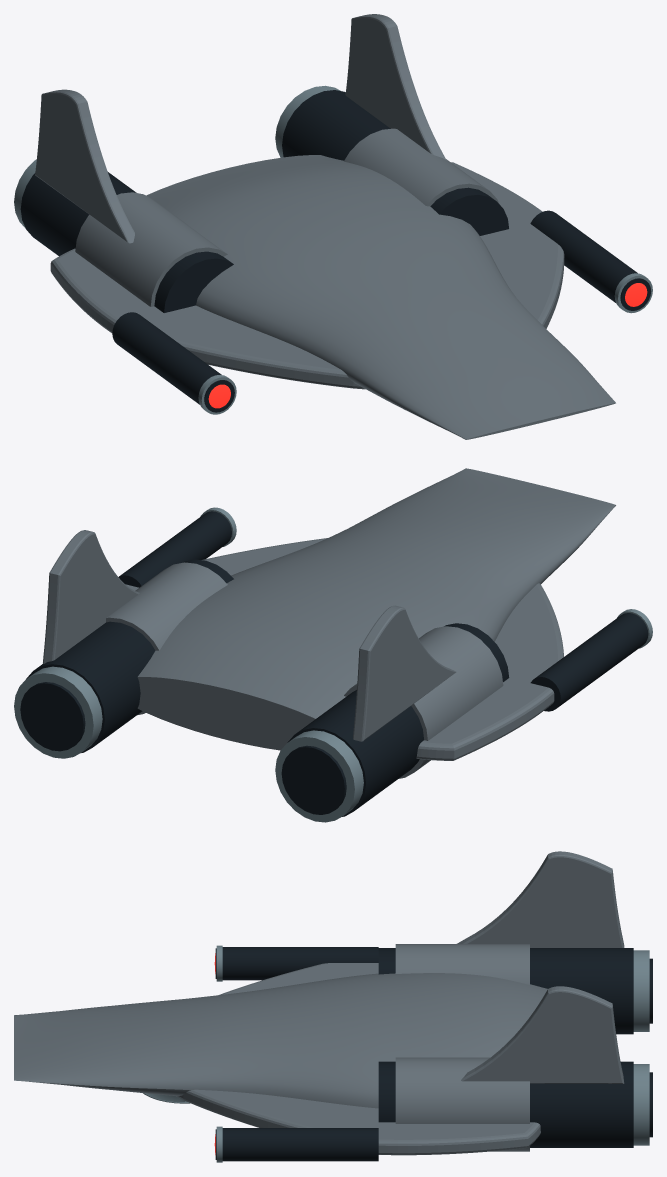
File: drone-v1.glb
3 renders of one model, top to bottom at view 1: azimuth 30°, elevation 25°; view 2: azimuth 150°, elevation 25°; view 3: azimuth 270°, elevation 25°, orthographic. The views are drawn at different scales.
Parts seen in each view (by area): view 1: curved_pointed_hull, curved_wing_-1, engine_cowling_-1, tail_fin_-1, engine_core_1, tail_fin_1, curved_wing_1, engine_core_-1, engine_cowling_1, beam_emitter_body_-1, beam_emitter_body_1, exhaust_collar_1; view 2: curved_pointed_hull, curved_wing_-1, hull_rear_cap, tail_fin_-1, tail_fin_1, engine_core_1, engine_core_-1, engine_cowling_-1, engine_cowling_1, beam_emitter_body_-1, exhaust_aperture_1, exhaust_aperture_-1 (+4 smaller); view 3: curved_pointed_hull, tail_fin_1, curved_wing_1, tail_fin_-1, engine_core_1, engine_cowling_1, engine_core_-1, beam_emitter_body_1, engine_cowling_-1, beam_emitter_body_-1, curved_wing_-1, exhaust_collar_-1 (+1 smaller).
Boxes of the visible parts, x1,y1,x2,y2 form: curved_pointed_hull: (146,155,615,439); curved_wing_-1: (50,248,365,389); engine_cowling_-1: (75,192,227,306); tail_fin_-1: (35,89,134,243); engine_core_1: (282,90,508,235); tail_fin_1: (345,14,446,160); curved_wing_1: (451,162,564,328); engine_core_-1: (20,172,233,312); engine_cowling_1: (344,128,499,206); beam_emitter_body_-1: (112,312,221,404); beam_emitter_body_1: (530,210,637,302); exhaust_collar_1: (275,85,340,157); curved_pointed_hull: (138,468,615,718); curved_wing_-1: (416,583,563,760); hull_rear_cap: (137,677,315,750); tail_fin_-1: (353,605,456,741); tail_fin_1: (43,530,139,663); engine_core_1: (26,559,233,752); engine_core_-1: (287,623,509,816); engine_cowling_-1: (344,626,503,778); engine_cowling_1: (106,562,227,714); beam_emitter_body_-1: (530,613,648,711); exhaust_aperture_1: (20,682,85,751); exhaust_aperture_-1: (281,745,346,814); curved_pointed_hull: (14,973,547,1108); tail_fin_1: (461,986,624,1083); curved_wing_1: (176,1089,540,1155); tail_fin_-1: (457,851,624,947); engine_core_1: (378,1061,633,1147); engine_cowling_1: (395,1057,529,1151); engine_core_-1: (378,948,633,1034); beam_emitter_body_1: (222,1128,378,1161); engine_cowling_-1: (395,944,529,984); beam_emitter_body_-1: (222,947,378,980); curved_wing_-1: (218,963,378,995); exhaust_collar_-1: (633,950,649,1031).
Bounding box in the file's own units: 2.04 × 0.831 × 2.8.
